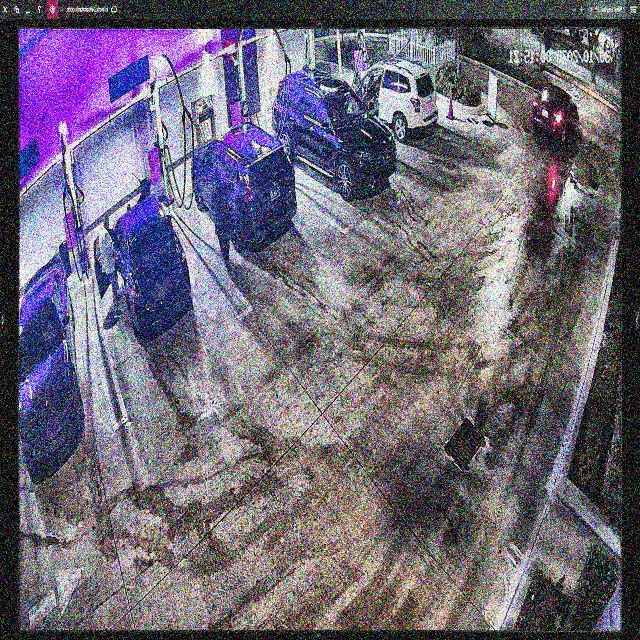Car: (278, 67, 391, 207), (194, 110, 295, 249), (95, 196, 188, 331)
